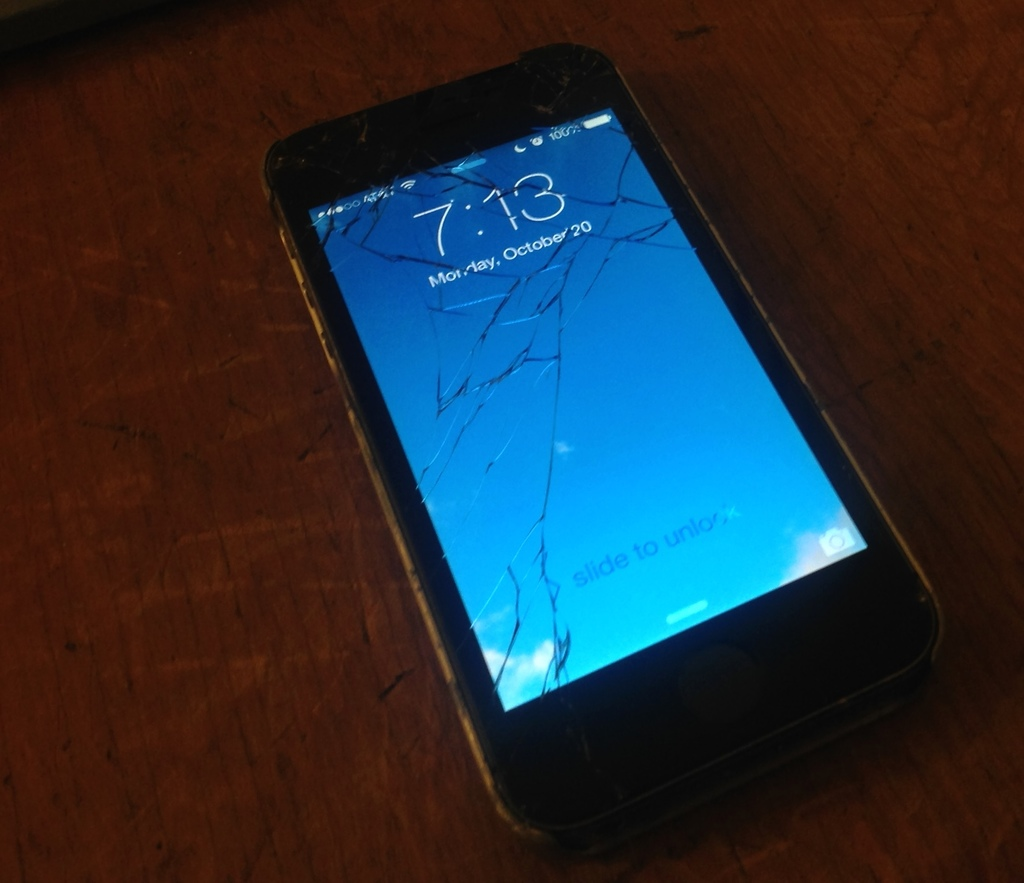Mobile-phone: (268, 52, 951, 861)
